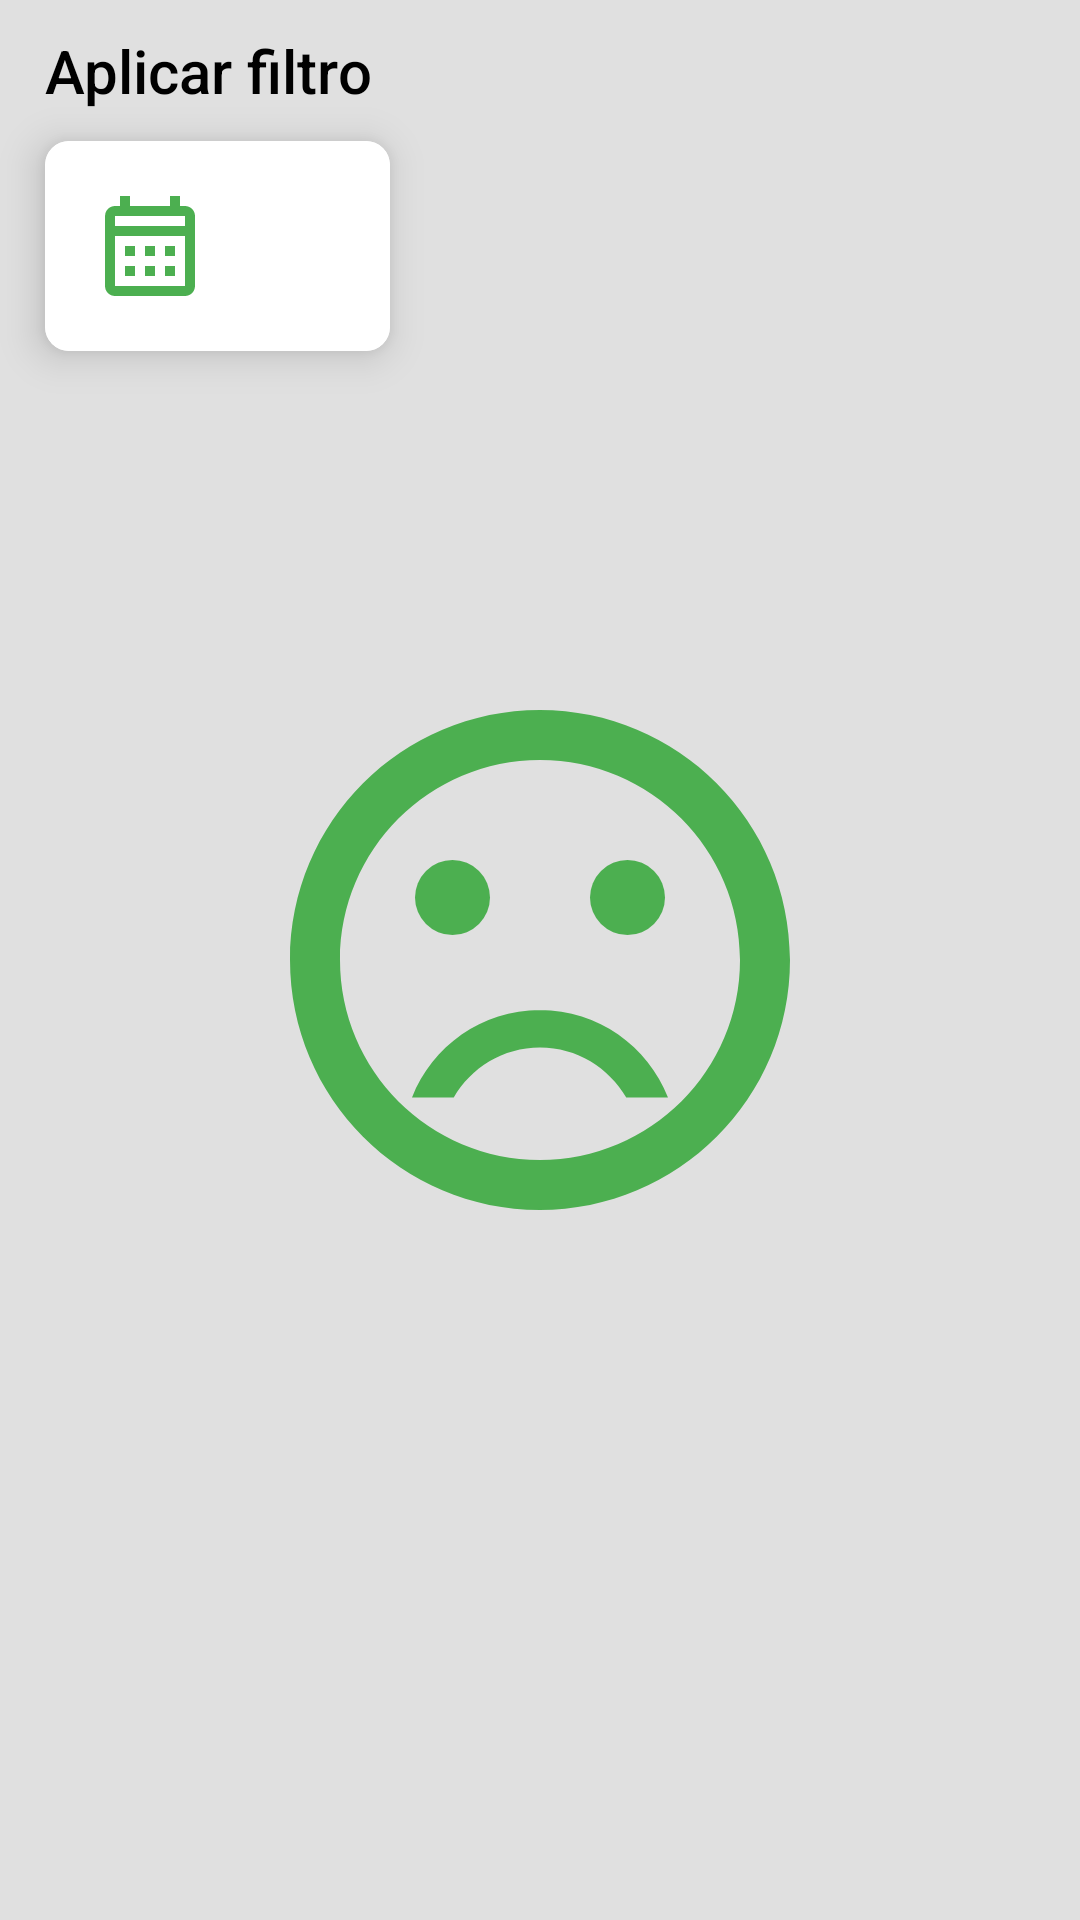

Named icons in this screenshot (1080w x 1920h) and their bounding boxes, (x1, y1, x2, y2):
calendar: (45, 141, 255, 351)
